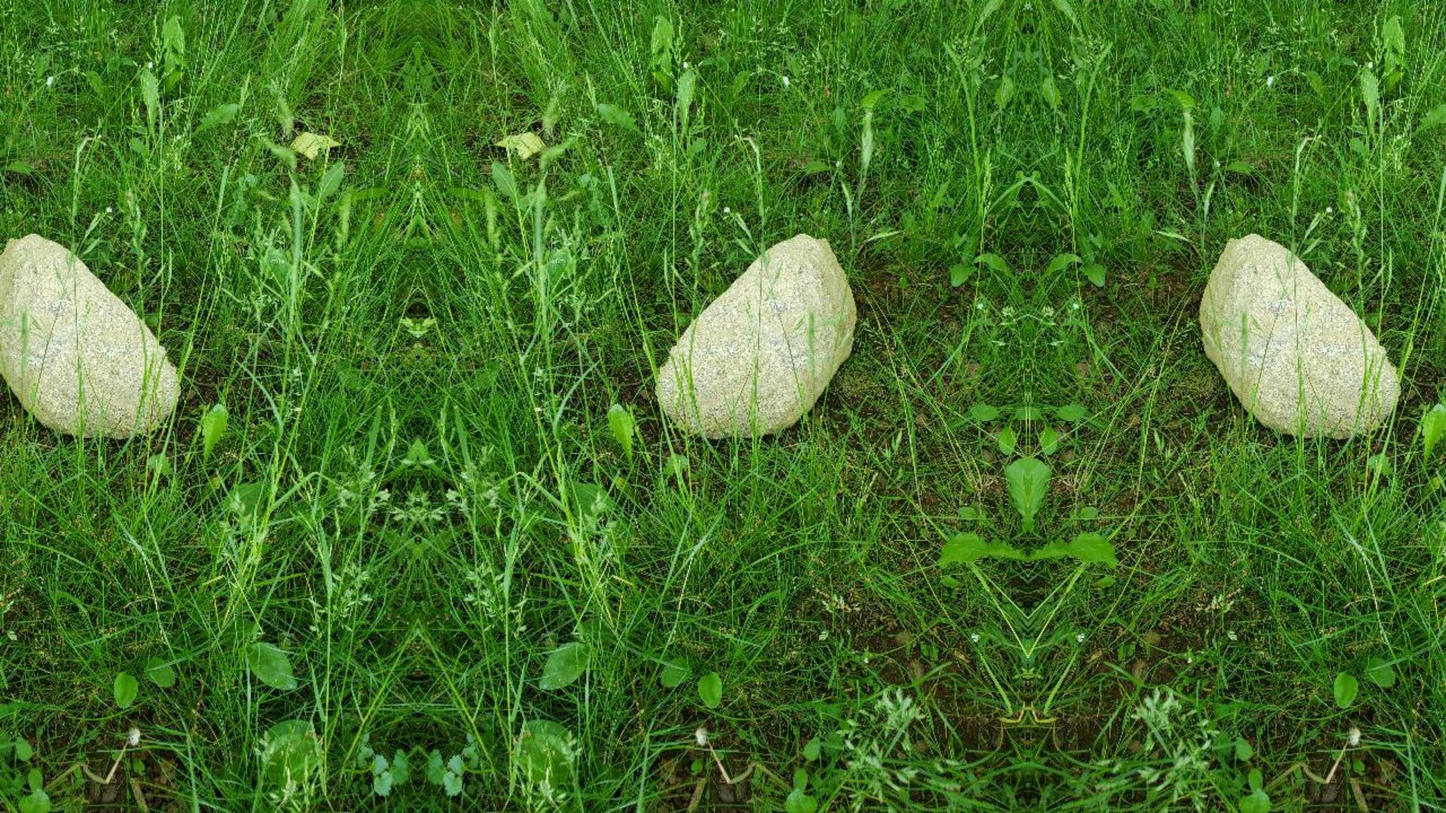rock: (656, 235, 855, 437), (1200, 235, 1397, 437), (0, 235, 178, 437)
